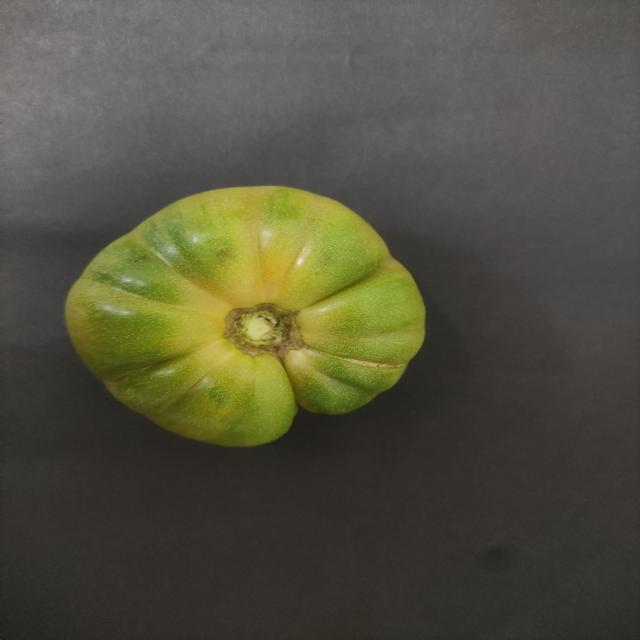unripe tomato: (57, 184, 446, 457)
